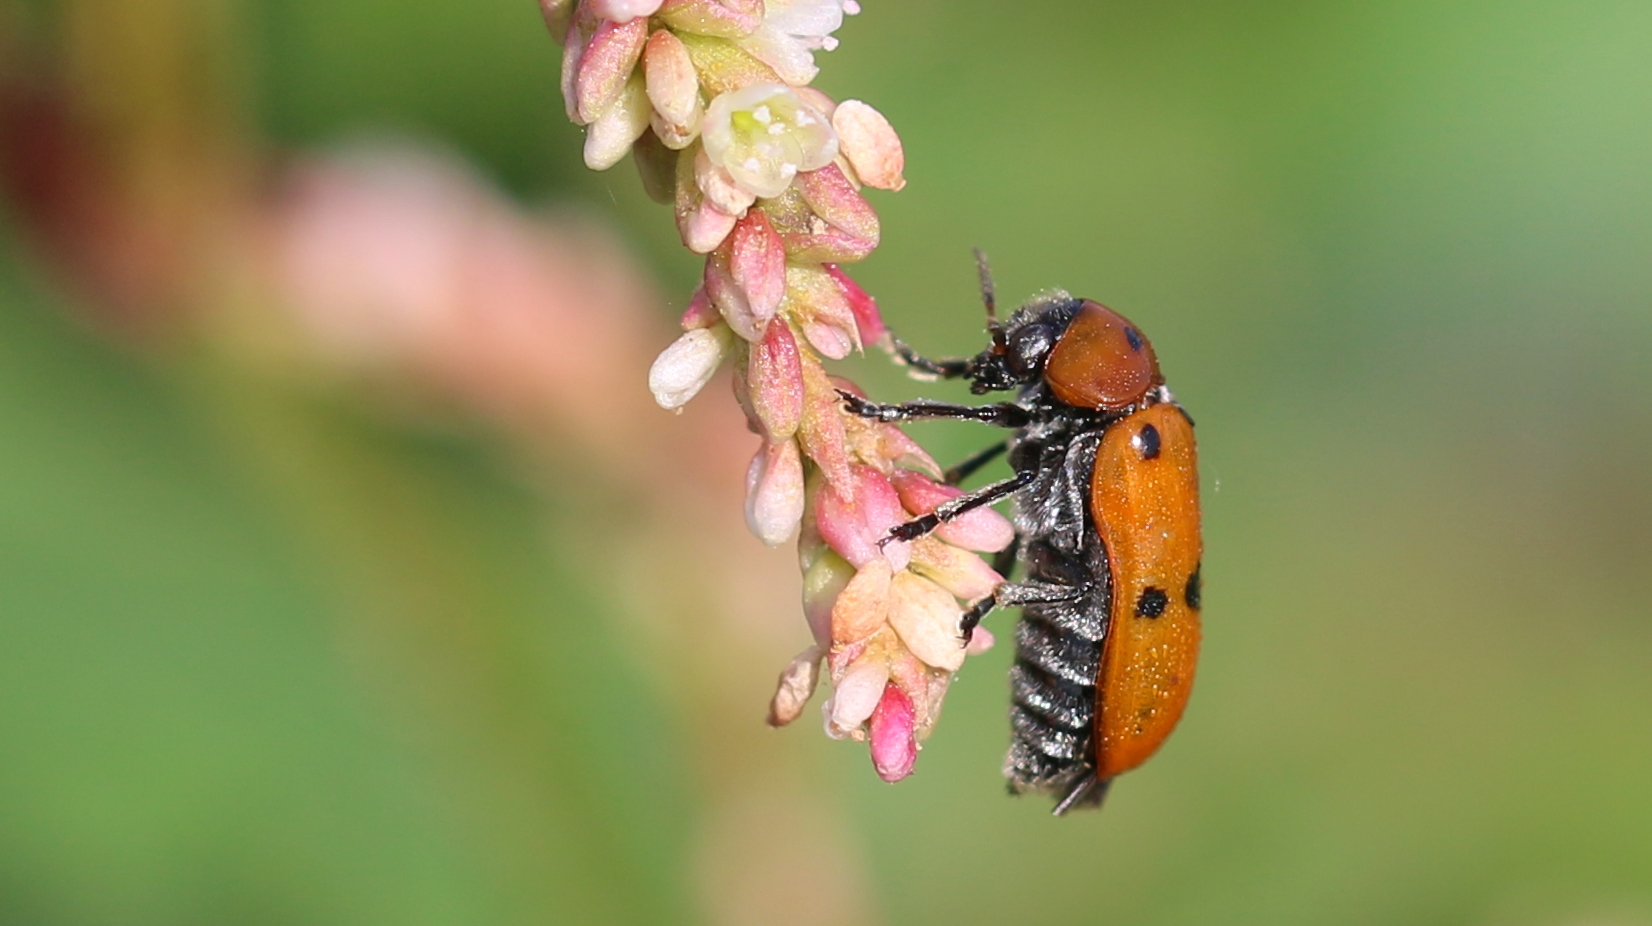Clytra_novempunctata: (829, 235, 1224, 823)
